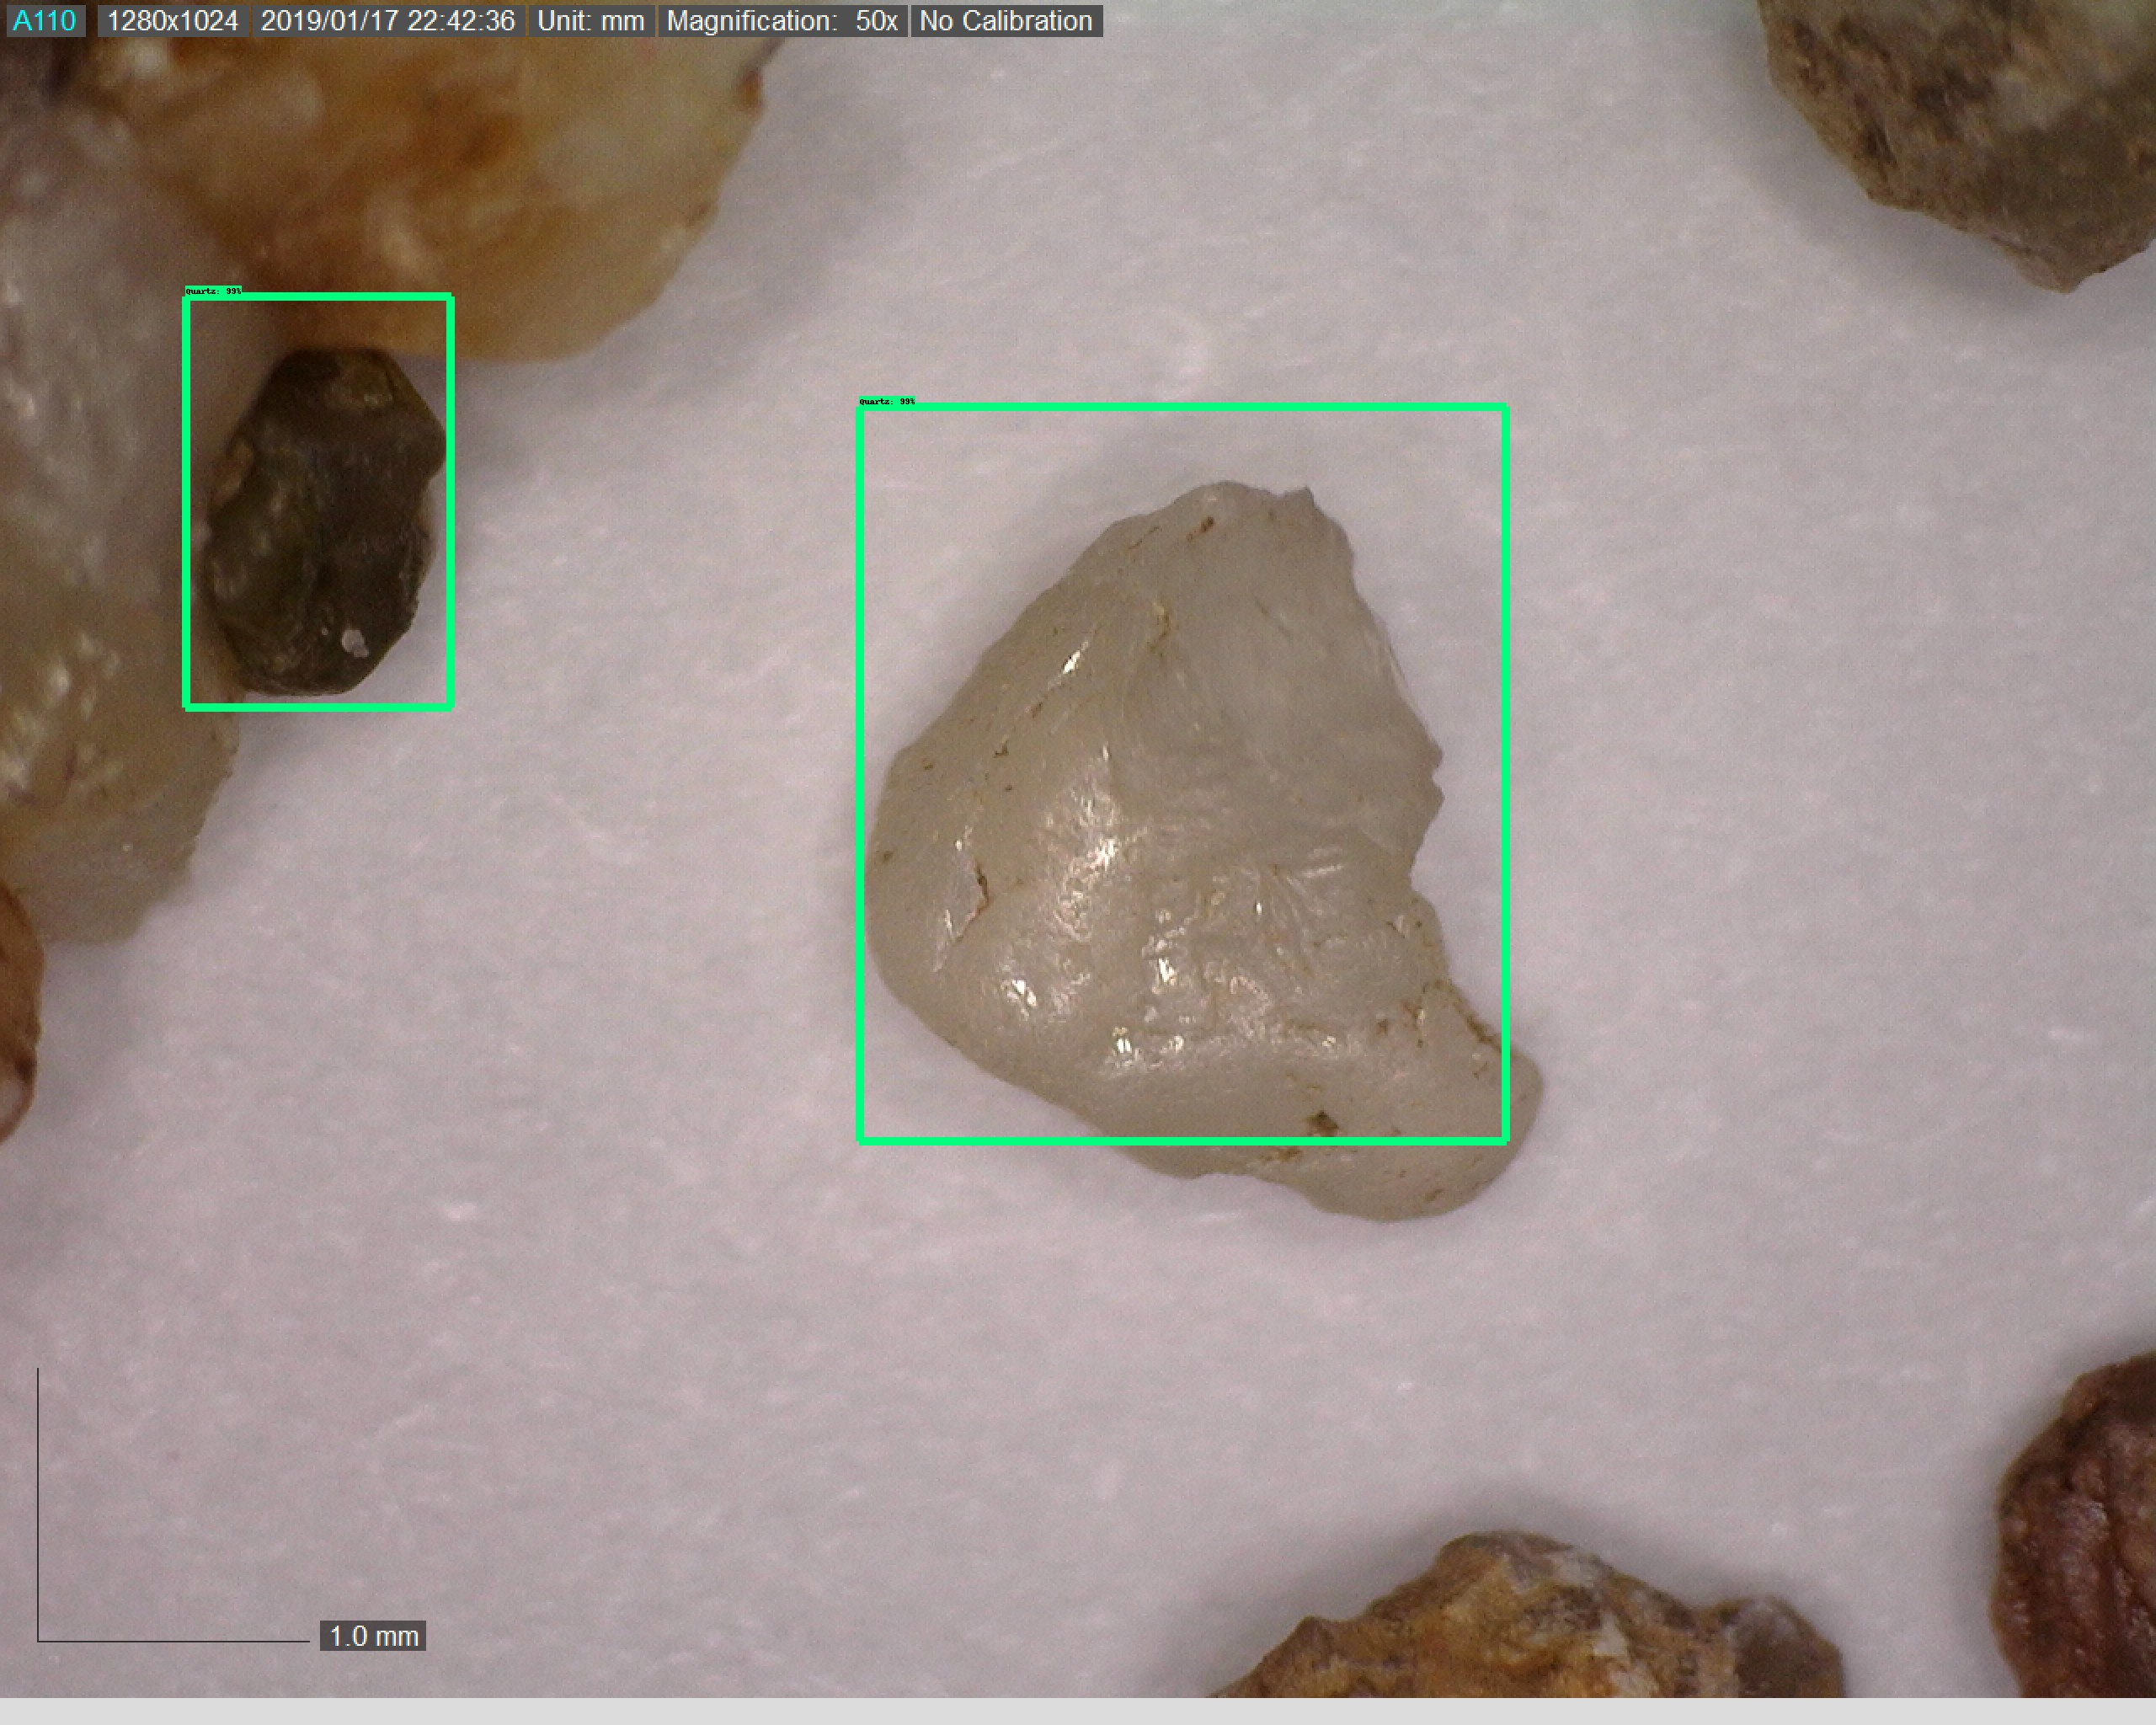Quartz: (838, 472, 1610, 1278)
